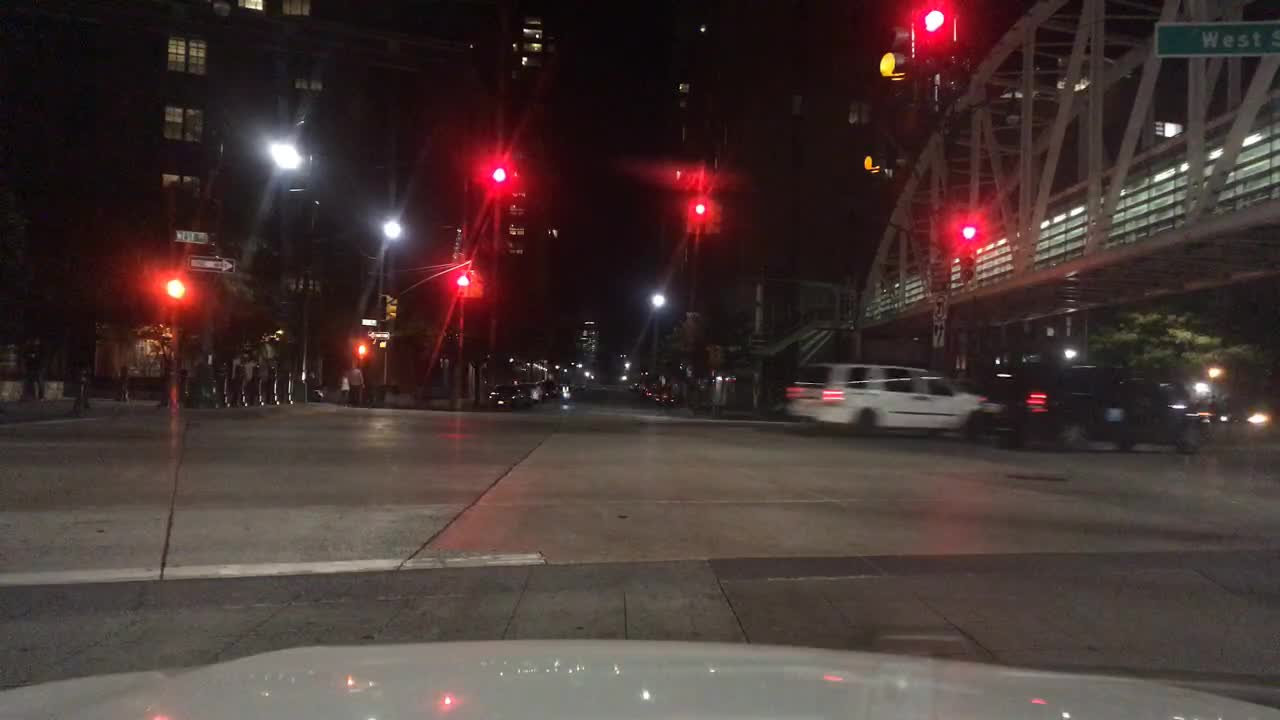car: (969, 369, 1206, 461), (774, 359, 991, 441), (482, 384, 526, 413), (523, 384, 546, 408), (658, 388, 678, 409), (622, 378, 651, 390), (645, 382, 661, 401), (546, 379, 558, 401), (636, 383, 648, 399), (560, 378, 571, 395)
person: (26, 336, 42, 405), (346, 359, 366, 407)
traffic light: (913, 9, 950, 92), (880, 18, 913, 84), (955, 217, 981, 284), (862, 145, 887, 183), (688, 197, 708, 232), (490, 157, 507, 195), (707, 198, 724, 230), (165, 273, 184, 301), (384, 293, 400, 321), (353, 336, 370, 356), (454, 272, 470, 291)
traffic sign: (1152, 19, 1279, 58), (192, 254, 239, 274), (175, 227, 212, 247), (741, 330, 771, 348), (930, 292, 946, 318), (931, 319, 945, 346), (368, 328, 390, 340), (361, 314, 376, 328)
